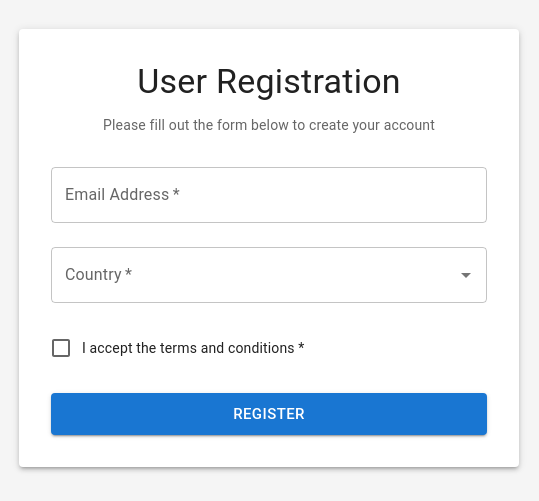
App Component › Edge Cases › should handle rapid input changes
Type "test" into the field with test id "email-input" at (269, 195), box [51, 167, 487, 223]
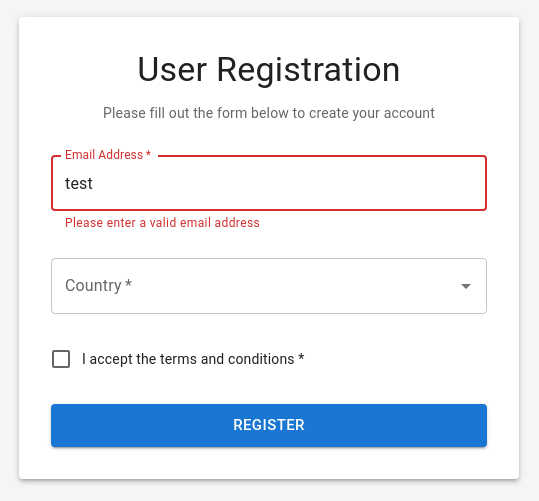
Type "@" into the field with test id "email-input" at (269, 183), box [51, 155, 487, 211]
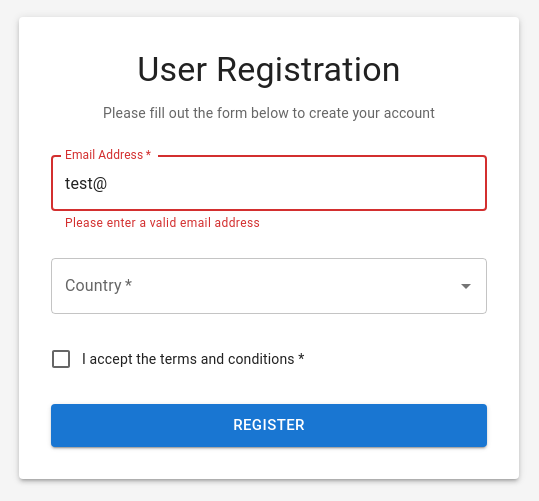
Type "example.com" into the field with test id "email-input" at (269, 183), box [51, 155, 487, 211]
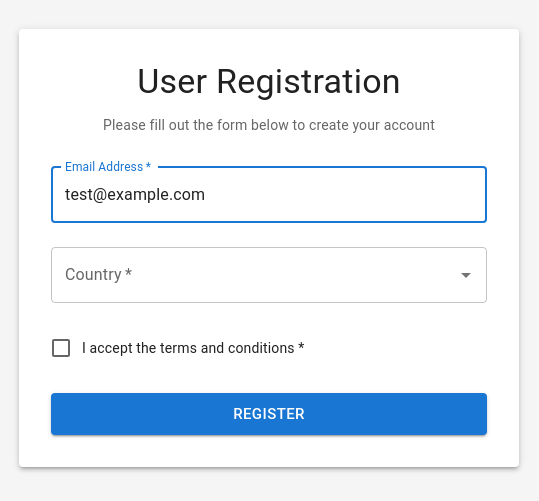
Check: the field with test id "email-input" holds "test@example.com", box [51, 167, 487, 223]
